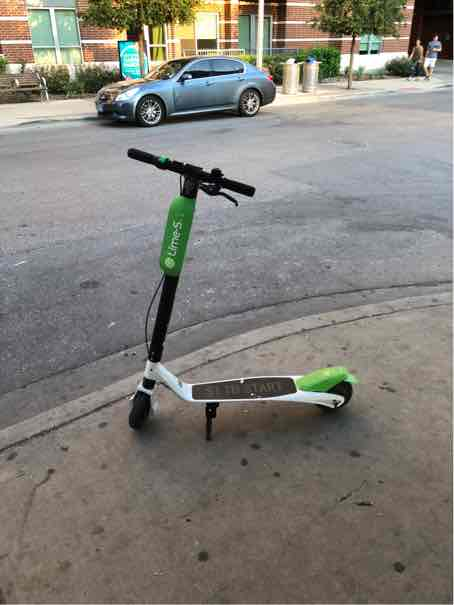scooter: (117, 135, 363, 444)
